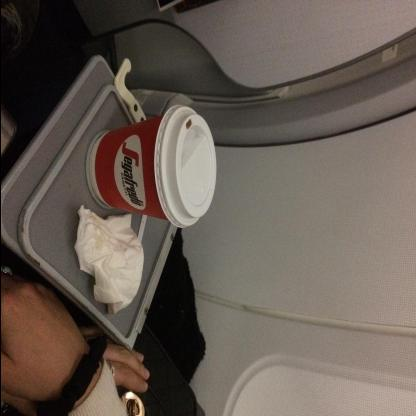kagit: (72, 204, 144, 314)
karton: (87, 105, 216, 229)
